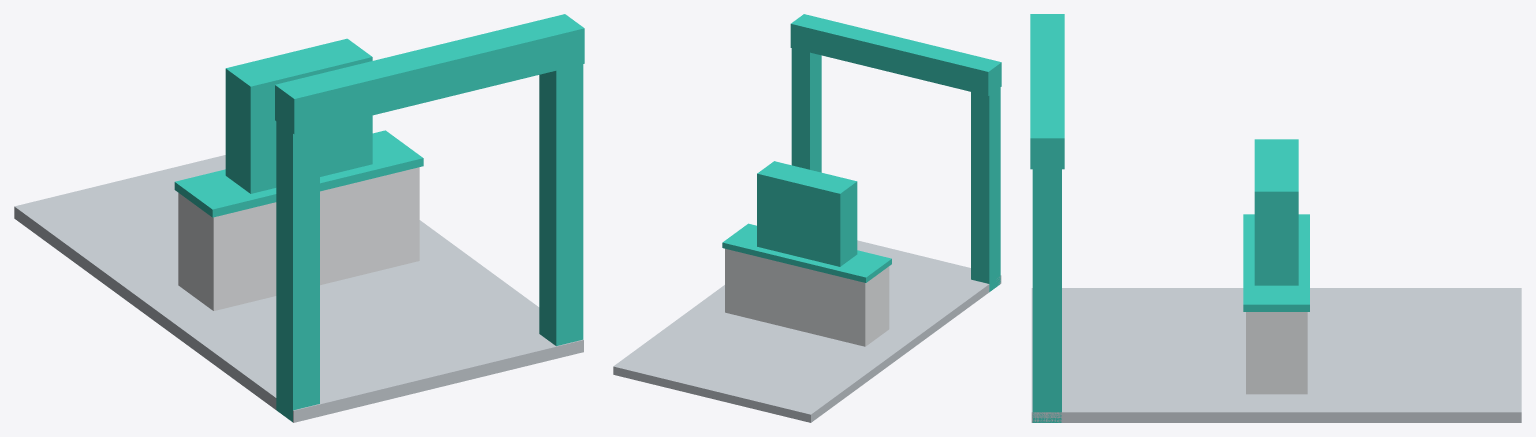
The picture shows the model from 3 angles, left to right: view 1: azimuth 30°, elevation 25°; view 2: azimuth 150°, elevation 25°; view 3: azimuth 270°, elevation 25°; orthographic projection. The views are drawn at different scales.
Parts seen in each view (by area): view 1: Exhibition Booth Concept; view 2: Exhibition Booth Concept; view 3: Exhibition Booth Concept.
Boxes of the visible parts, box(x1,y1,x2,y2) form: Exhibition Booth Concept: box(14, 14, 584, 422); Exhibition Booth Concept: box(613, 14, 1001, 422); Exhibition Booth Concept: box(1030, 14, 1521, 422).
Size of the model in its own units: 3 by 3.2 by 5.02.
